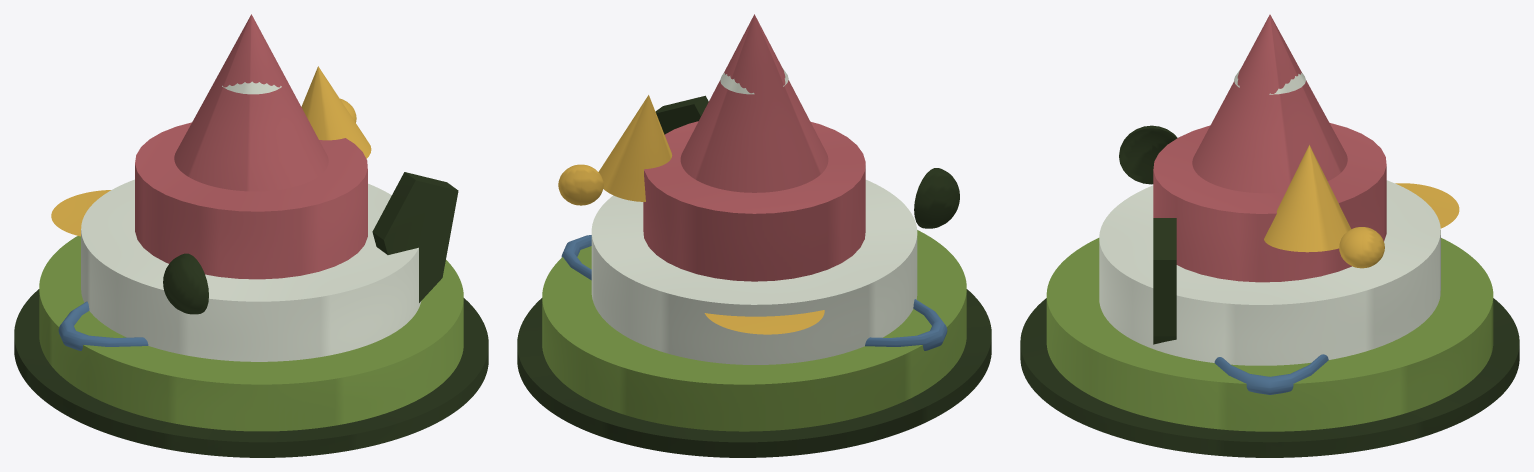
The model's file is 0645_地貌图鉴_钱塘江潮汐树.glb.
The picture shows the model from 3 angles, left to right: view 1: azimuth 30°, elevation 25°; view 2: azimuth 150°, elevation 25°; view 3: azimuth 270°, elevation 25°; orthographic projection.
Parts seen in each view (by area): view 1: card_0645; view 2: card_0645; view 3: card_0645.
Boxes of the visible parts, x1,y1,x2,y2 form: card_0645: [14, 14, 488, 457]; card_0645: [517, 14, 991, 457]; card_0645: [1020, 14, 1519, 457].
Size of the model in its own units: 1.24 by 1 by 1.31.
